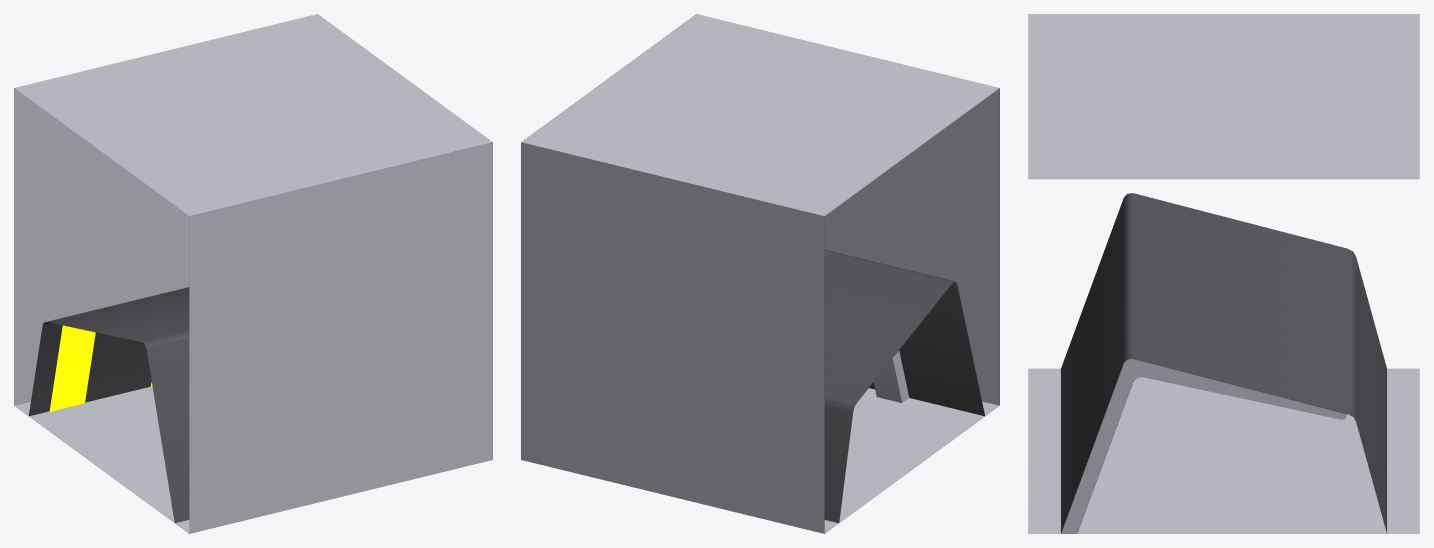
Rendered from Corridor_Part_02.FBX.
The picture shows the model from 3 angles, left to right: view 1: azimuth 30°, elevation 25°; view 2: azimuth 150°, elevation 25°; view 3: azimuth 270°, elevation 25°; orthographic projection. The views are drawn at different scales.
Visible parts, largest first — view 1: Corridor_Part_02; view 2: Corridor_Part_02; view 3: Corridor_Part_02.
Part boxes in pixels (bbox=[...]): Corridor_Part_02: bbox=[14, 14, 492, 533]; Corridor_Part_02: bbox=[521, 14, 999, 533]; Corridor_Part_02: bbox=[1028, 14, 1419, 533].
Size of the model in its own units: 12 by 12 by 12.
